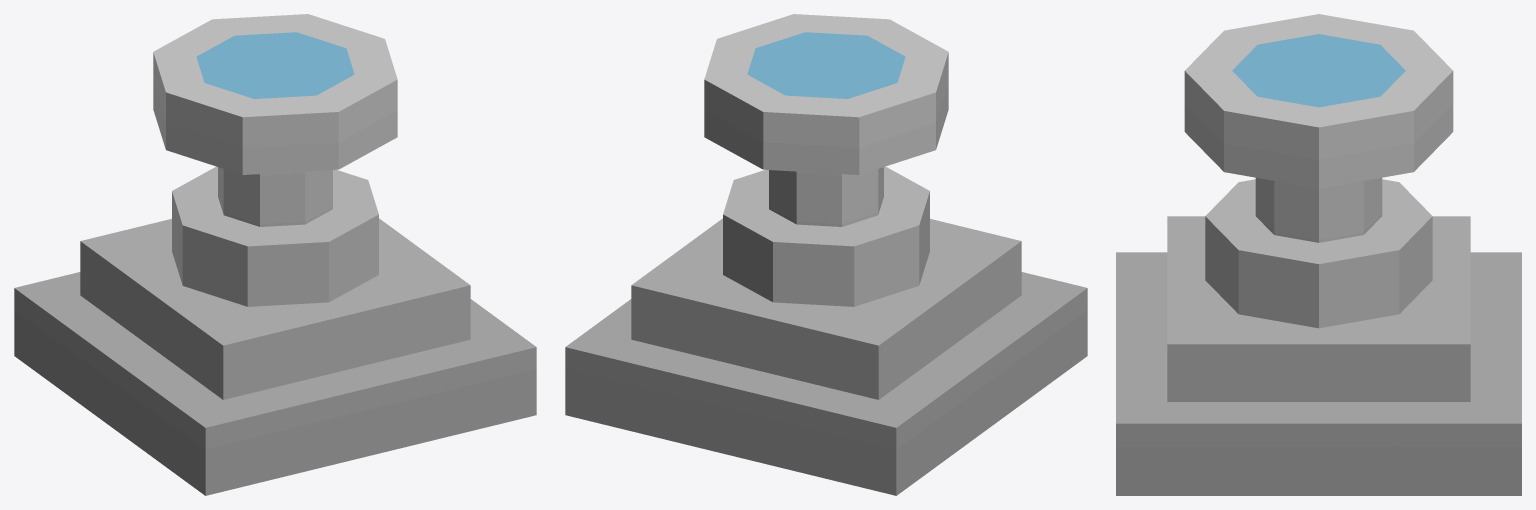
Rendered from fountain_2.glb.
3 renders of one model, left to right at view 1: azimuth 30°, elevation 25°; view 2: azimuth 150°, elevation 25°; view 3: azimuth 270°, elevation 25°, orthographic. The views are drawn at different scales.
Visible parts, largest first — view 1: fountain 2; view 2: fountain 2; view 3: fountain 2.
Boxes of the visible parts, x1=… form: fountain 2: x1=14, y1=14, x2=536, y2=495; fountain 2: x1=565, y1=14, x2=1087, y2=495; fountain 2: x1=1116, y1=14, x2=1521, y2=495.
Size of the model in its own units: 1.89 by 1.75 by 1.89.
Materials: 1 (1 with a texture image).
